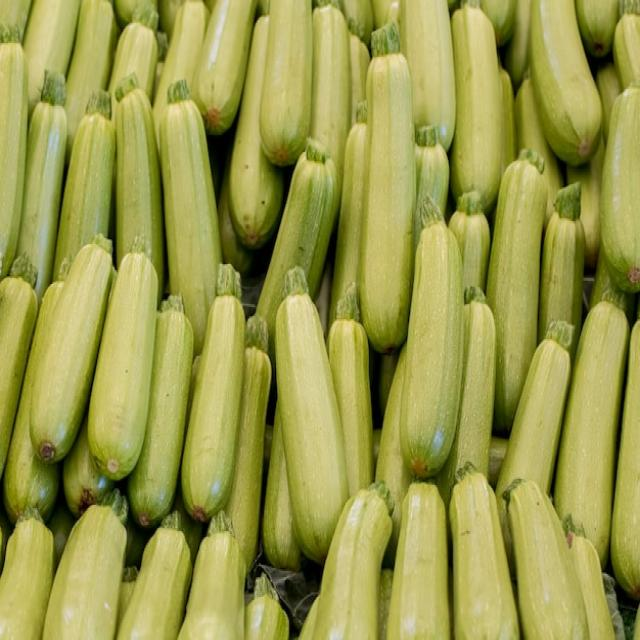Zucchini: (282, 278, 346, 560), (361, 41, 417, 344)
